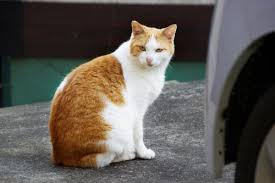cat: (120, 20, 184, 73)
